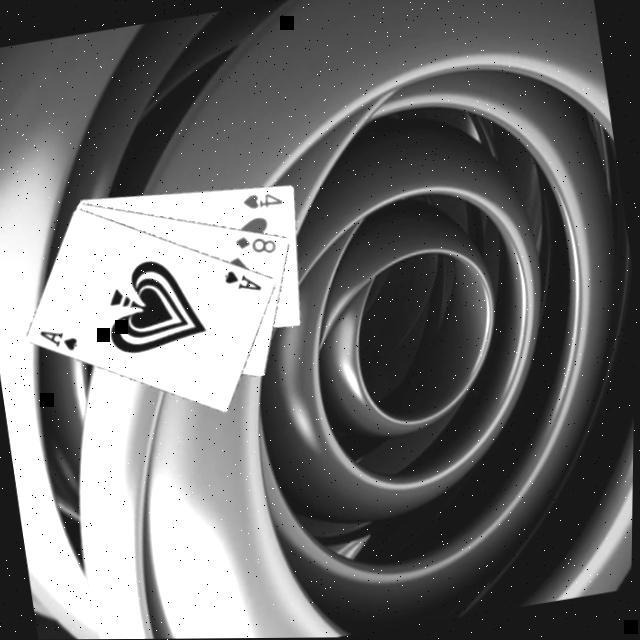4H: (240, 188, 288, 215)
8D: (232, 230, 282, 262)
AS: (38, 322, 84, 358), (222, 264, 267, 300)
